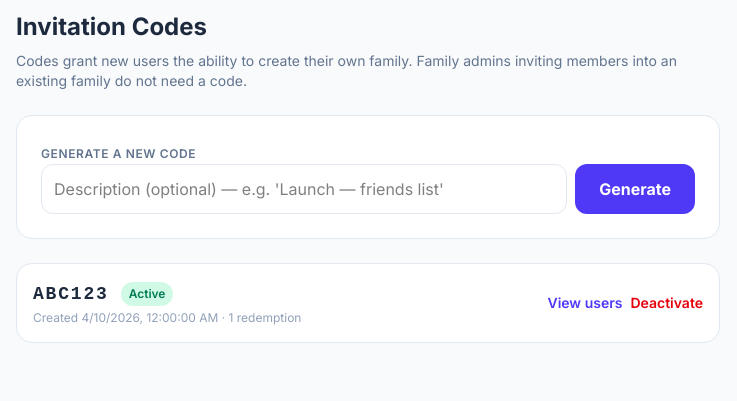
Scenario: InvitationCodesPage — redemptions › loads and displays redemptions when View users is clicked
Check: the text "ABC123" is shown, box [33,280,109,308]
Click the button "View users": (585,303) [548,293,622,313]
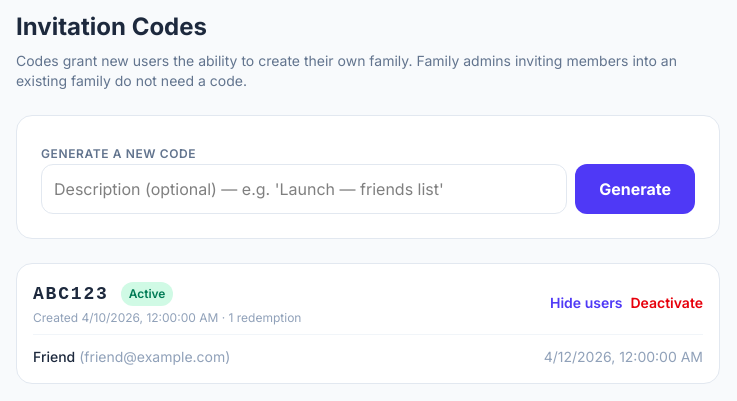
Check: the text "Friend" is shown, box [33,348,75,365]
Check: the text "(friend@example.com)" is shown, box [79,348,230,365]
